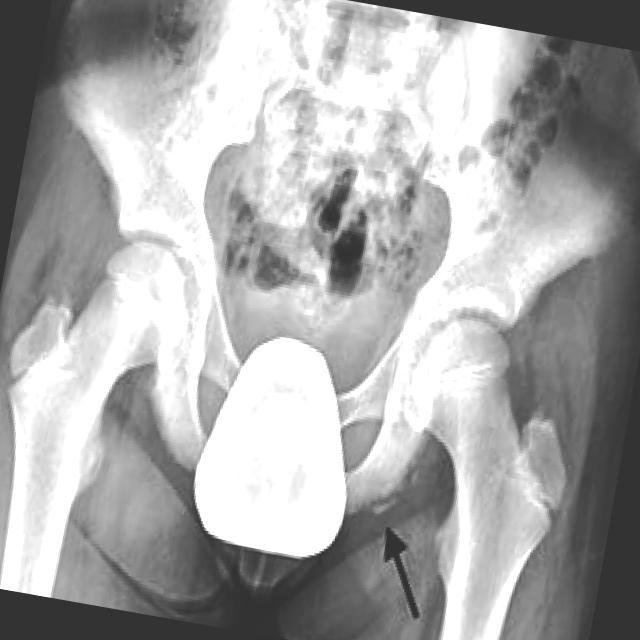Avlusion Fracture: (364, 467, 408, 522)
